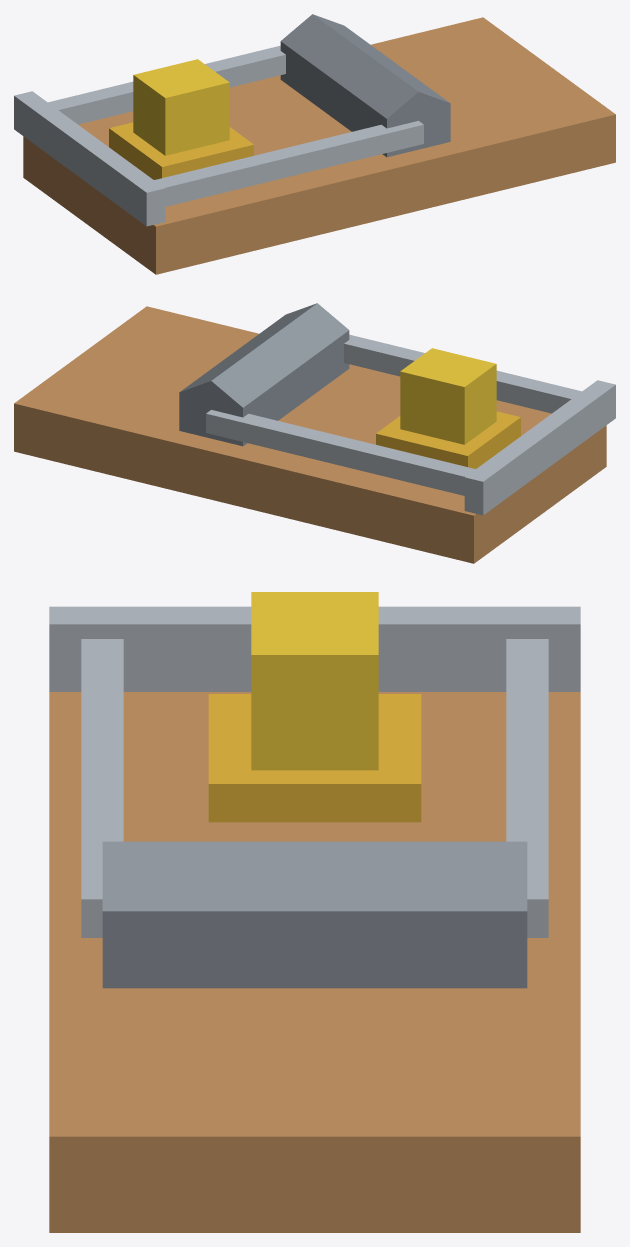
The model's file is mousetrap.fbx.
3 renders of one model, top to bottom at view 1: azimuth 30°, elevation 25°; view 2: azimuth 150°, elevation 25°; view 3: azimuth 270°, elevation 25°, orthographic. The views are drawn at different scales.
Parts seen in each view (by area): view 1: mousetrap, MECH_snap; view 2: mousetrap, MECH_snap; view 3: mousetrap, MECH_snap.
Boxes of the visible parts, x1,y1,x2,y2 form: mousetrap: [23, 14, 615, 274]; MECH_snap: [14, 45, 423, 226]; mousetrap: [14, 303, 606, 563]; MECH_snap: [206, 334, 615, 515]; mousetrap: [49, 592, 580, 1232]; MECH_snap: [49, 606, 580, 937].
Size of the model in its own units: 0.408 by 0.104 by 0.2.
